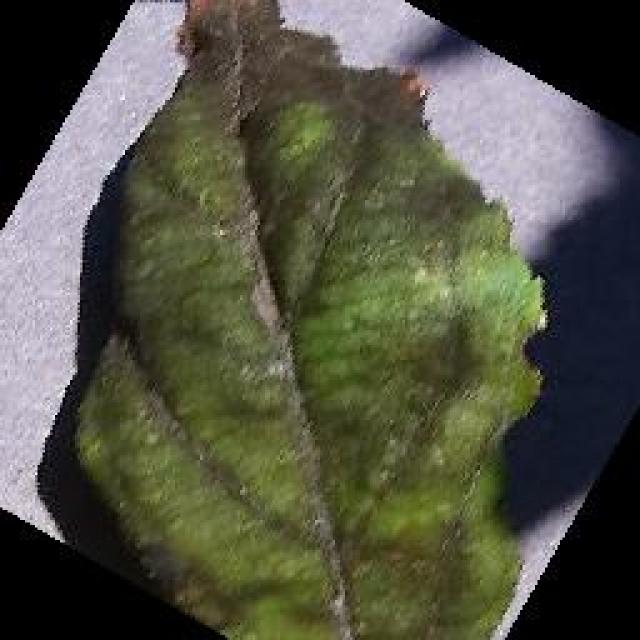apple scab disease: (68, 0, 552, 638)
